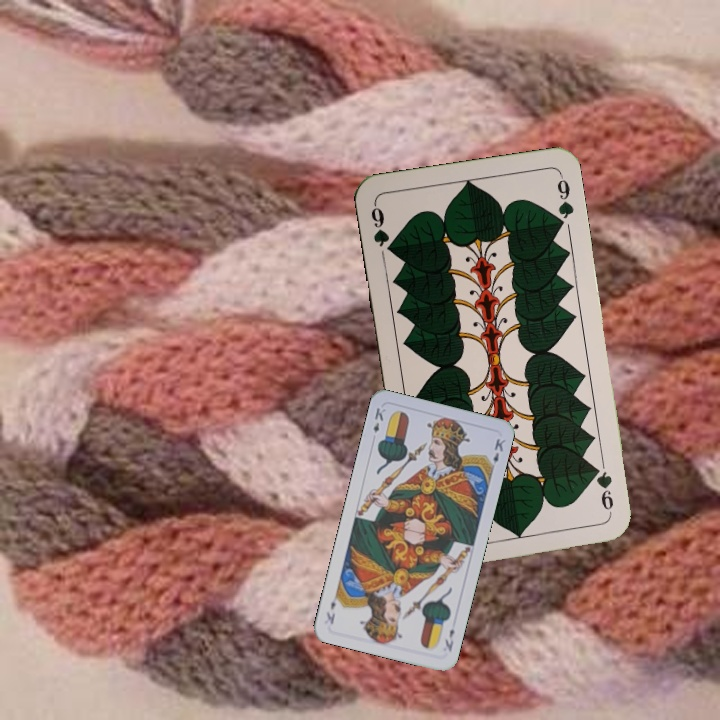EK: (369, 404, 388, 435), (441, 625, 457, 654)
G9: (366, 199, 397, 257), (589, 460, 616, 517)
